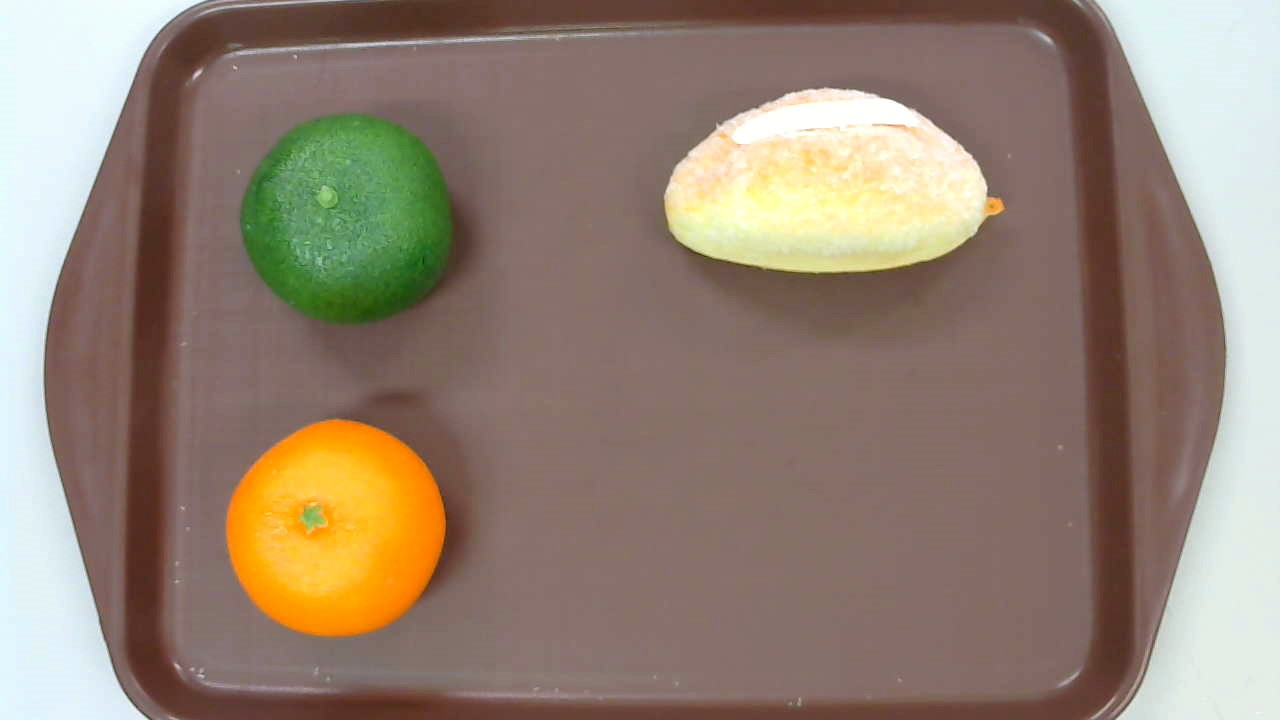coconut: (663, 87, 1005, 278)
green orange: (240, 116, 452, 325)
orange: (226, 417, 447, 637)
